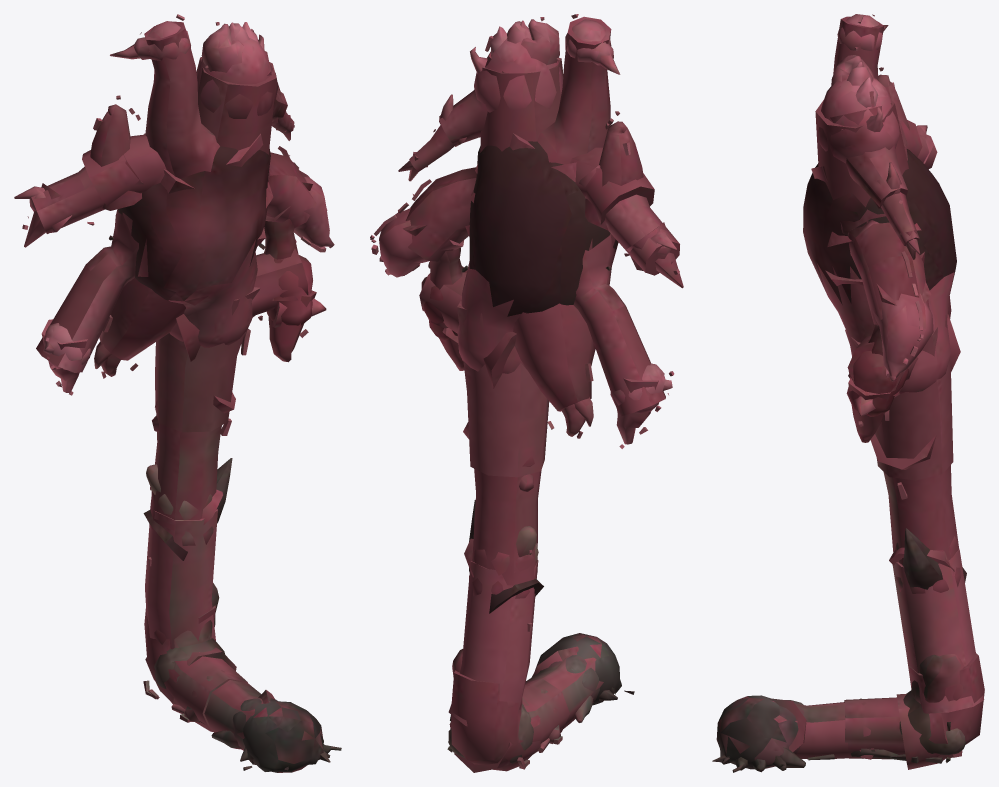
File: teflilly.glb
The picture shows the model from 3 angles, left to right: view 1: azimuth 30°, elevation 25°; view 2: azimuth 150°, elevation 25°; view 3: azimuth 270°, elevation 25°; orthographic projection. The views are drawn at different scales.
Parts seen in each view (by area): view 1: body; view 2: body; view 3: body.
Boxes of the visible parts, bbox=[...] form: body: bbox=[14, 14, 341, 772]; body: bbox=[370, 14, 683, 772]; body: bbox=[712, 14, 984, 772].
Size of the model in its own units: 2.68 by 6.12 by 2.08.
1 material, 1 textured.
